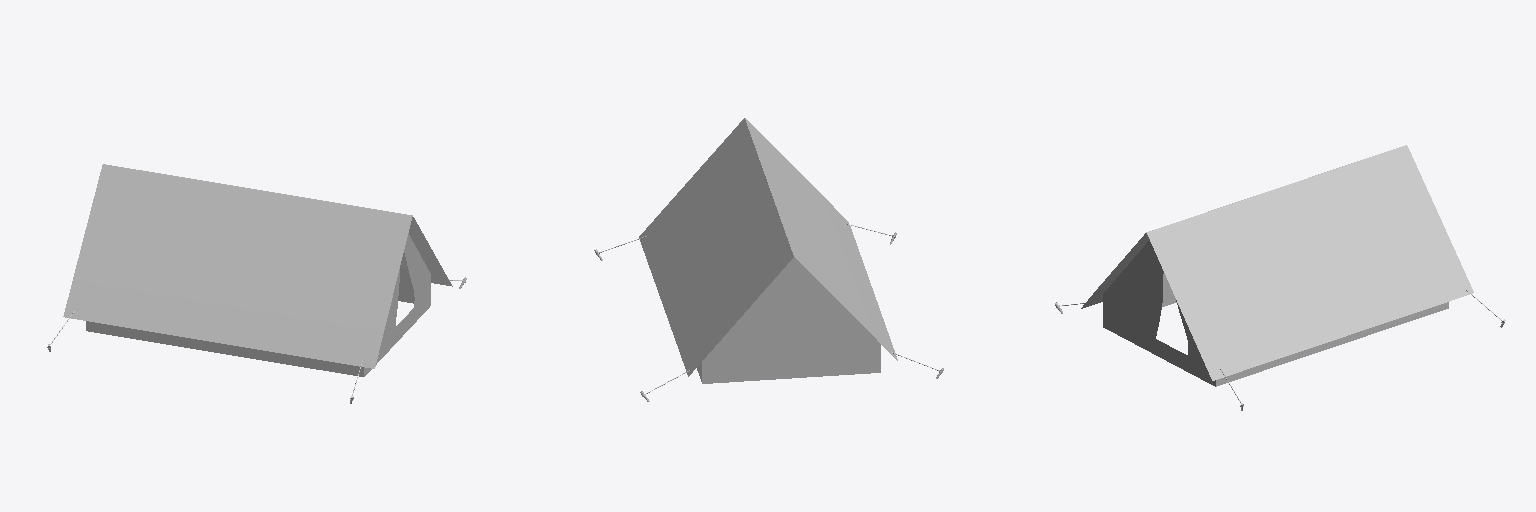
File: tent_1.obj
The picture shows the model from 3 angles: view 1: azimuth 30°, elevation 25°; view 2: azimuth 150°, elevation 25°; view 3: azimuth 270°, elevation 25°; orthographic projection.
Parts seen in each view (by area): view 1: tent1; view 2: tent1; view 3: tent1.
Part boxes in pixels (x1,y1,x2,y2): tent1: (47, 164, 466, 403); tent1: (594, 118, 943, 401); tent1: (1055, 145, 1505, 410).
Bounding box in the file's own units: 5.5 × 1.84 × 5.59.